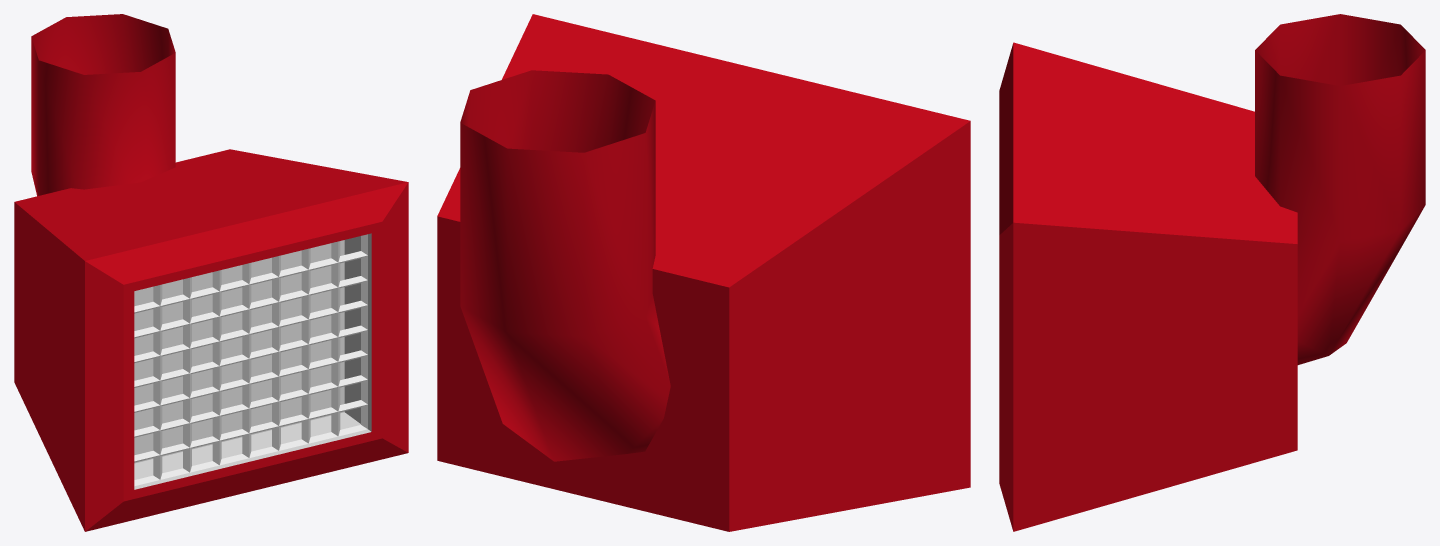
The model's file is speaker.fbx.
3 views of the same model, side by side, from view 1: azimuth 30°, elevation 25°; view 2: azimuth 150°, elevation 25°; view 3: azimuth 270°, elevation 25° (orthographic). The views are drawn at different scales.
Parts seen in each view (by area): view 1: Cube, Cube.001; view 2: Cube; view 3: Cube.
Part boxes in pixels (x1=…): Cube: x1=14, y1=14, x2=408, y2=531; Cube.001: x1=134, y1=234, x2=367, y2=486; Cube: x1=437, y1=14, x2=970, y2=531; Cube: x1=999, y1=14, x2=1425, y2=531.
Size of the model in its own units: 300 by 304 by 300.
